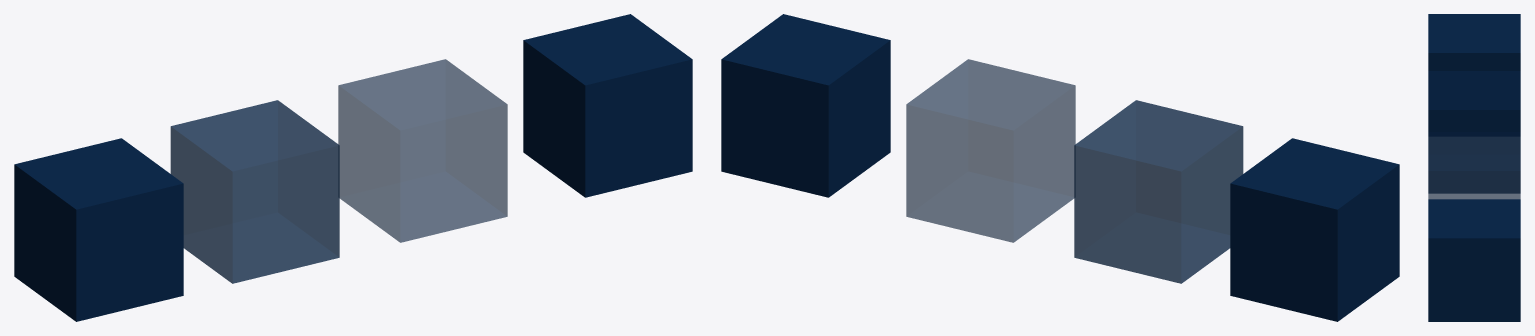
Rendered from cubes.fbx.
3 views of the same model, side by side, from view 1: azimuth 30°, elevation 25°; view 2: azimuth 150°, elevation 25°; view 3: azimuth 270°, elevation 25° (orthographic). The views are drawn at different scales.
Parts seen in each view (by area): view 1: pCube3, pCube4, pCube2, pCube1; view 2: pCube3, pCube4, pCube2, pCube1; view 3: pCube3, pCube1, pCube4, pCube2.
Part boxes in pixels (x1=…): pCube3: x1=523, y1=14, x2=692, y2=197; pCube4: x1=14, y1=138, x2=183, y2=321; pCube2: x1=338, y1=59, x2=507, y2=242; pCube1: x1=170, y1=100, x2=339, y2=283; pCube3: x1=721, y1=14, x2=890, y2=197; pCube4: x1=1230, y1=138, x2=1399, y2=321; pCube2: x1=906, y1=59, x2=1075, y2=242; pCube1: x1=1074, y1=100, x2=1243, y2=283; pCube3: x1=1428, y1=199, x2=1520, y2=321; pCube1: x1=1428, y1=71, x2=1520, y2=193; pCube4: x1=1428, y1=14, x2=1520, y2=131; pCube2: x1=1428, y1=132, x2=1520, y2=199.
Size of the model in its own units: 5.74 by 1 by 1.
